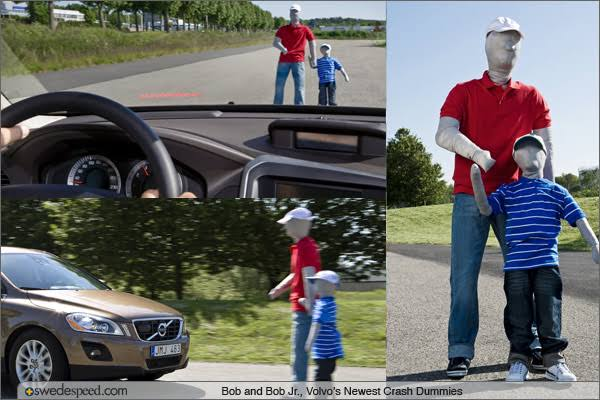stop: (439, 20, 577, 382), (271, 206, 342, 377), (271, 6, 347, 104)
